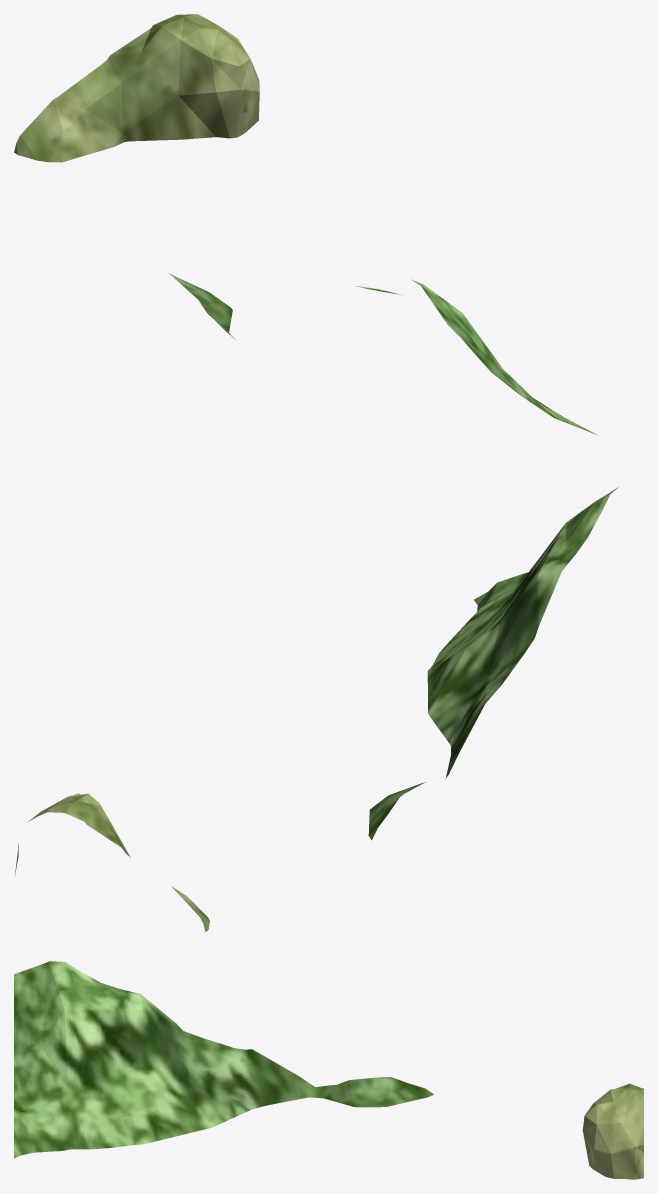
The picture shows the model from 3 angles, top to bottom: view 1: azimuth 30°, elevation 25°; view 2: azimuth 150°, elevation 25°; view 3: azimuth 270°, elevation 25°; orthographic projection. The views are drawn at different scales.
Size of the model in its own units: 0.944 by 0.689 by 2.95.
1 material, 1 textured.
